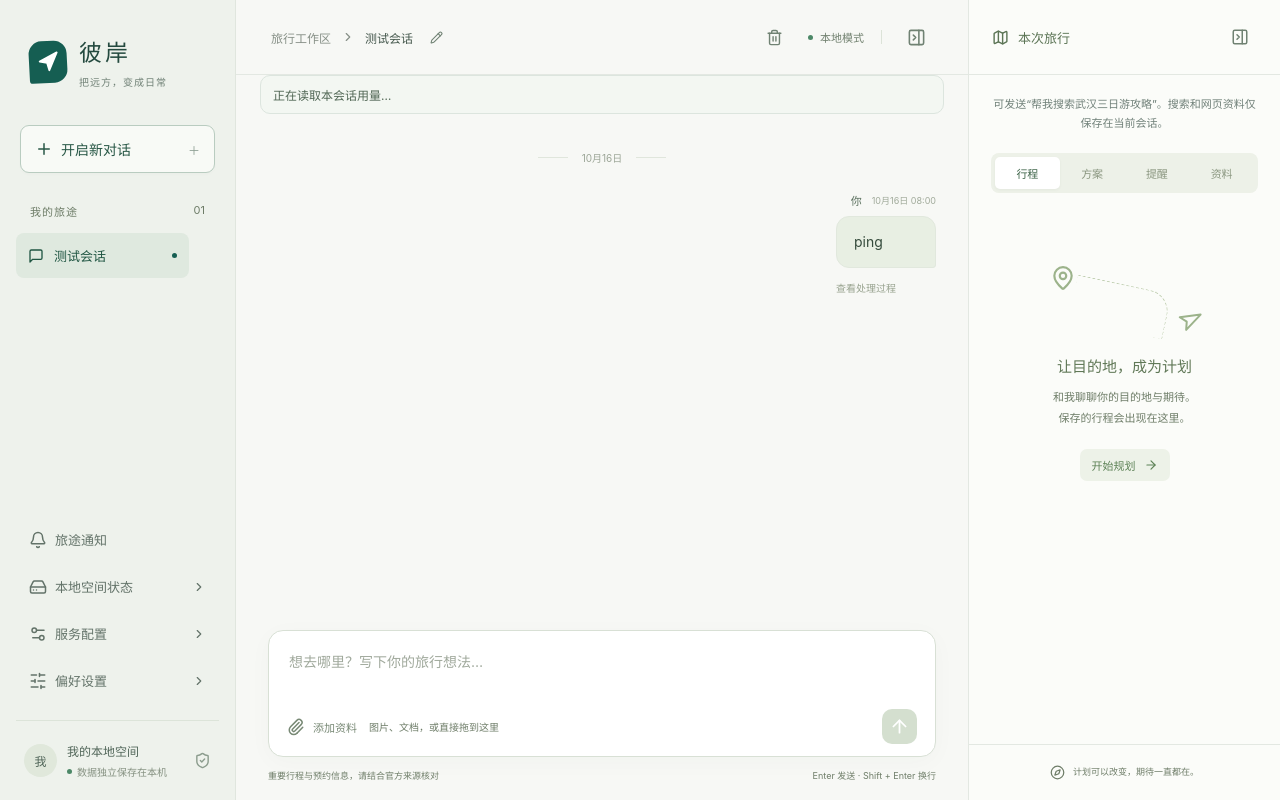
Test: local conversation interactions › opens diagnostics from a user message without asking for an event key
What coordinates should you click on to do the following:
click the button "查看处理过程"
I would click on:
 (866, 288)
Its box is [836,275,896,300].
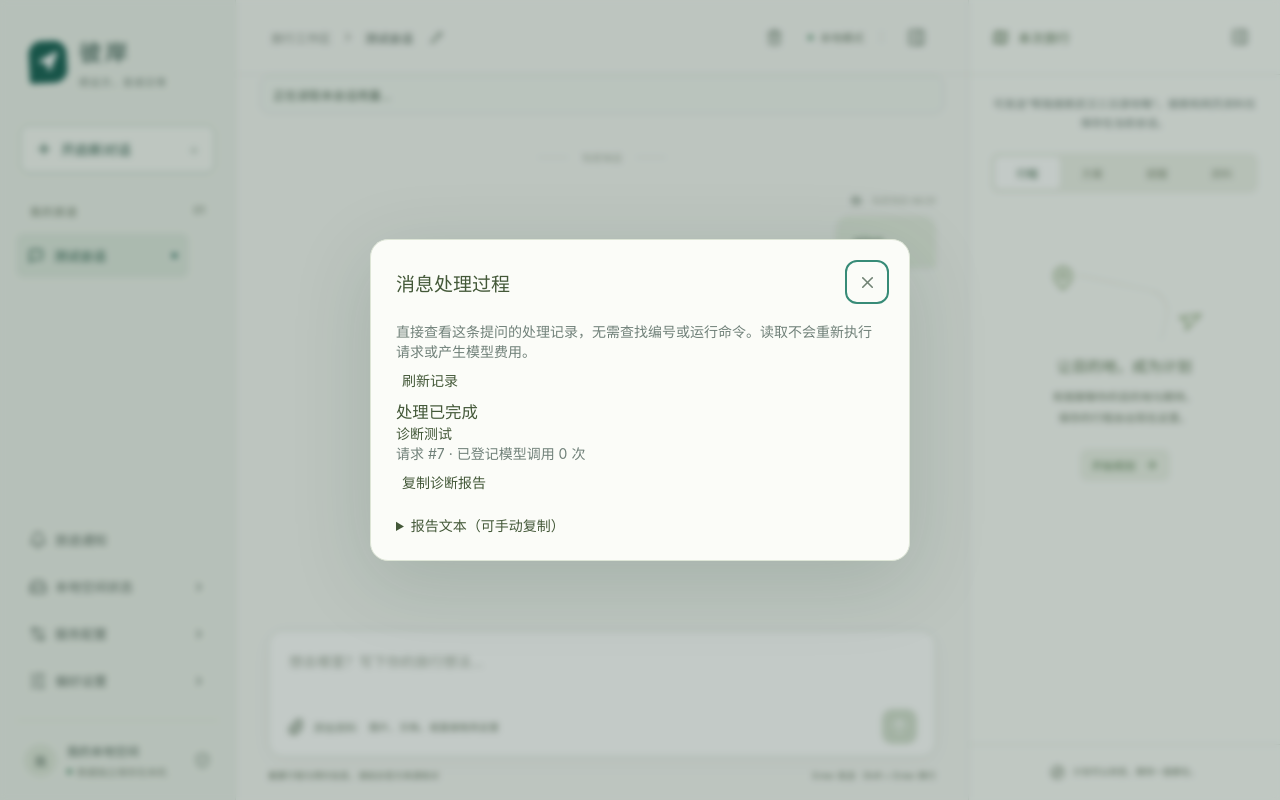
Expected: the text "诊断测试" is shown, [396,425,452,442]
Expected: the heading "消息处理过程" is shown, [396,268,510,296]
